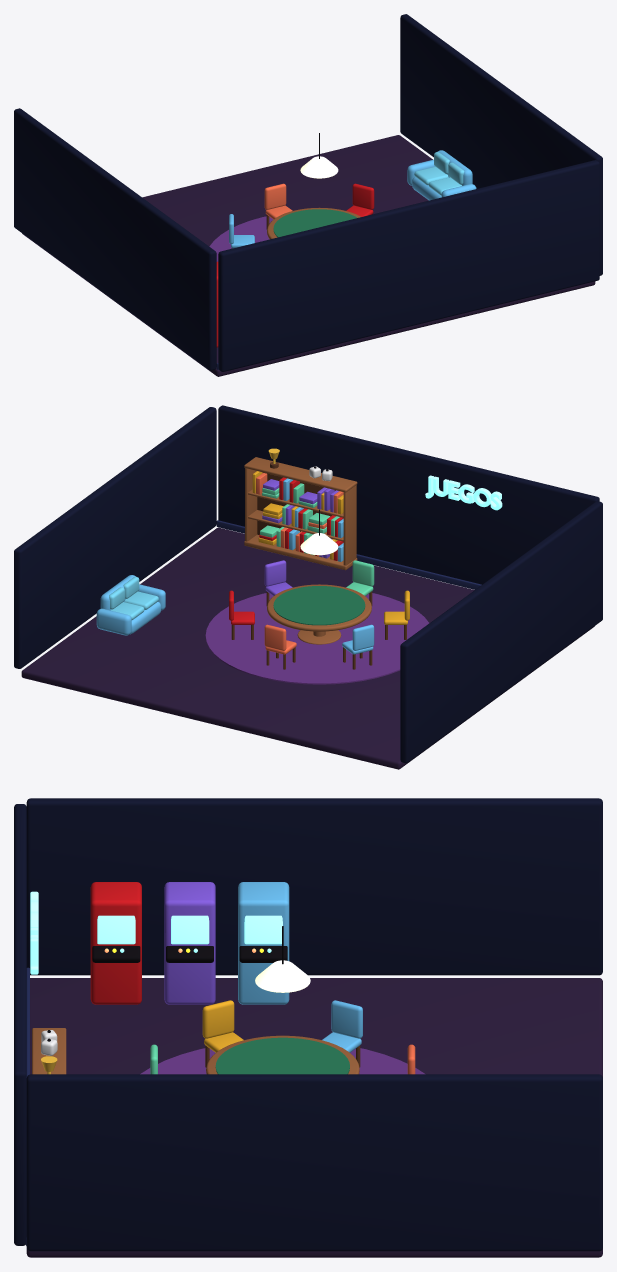
File: room_games.glb
3 renders of one model, top to bottom at view 1: azimuth 30°, elevation 25°; view 2: azimuth 150°, elevation 25°; view 3: azimuth 270°, elevation 25°, orthographic. The views are drawn at different scales.
Visible parts, largest first — view 1: Room, GamerSofa, RoundTable, TableRug, TableChair_1, TableChair_6, TableLampShade; view 2: Room, TableRug, GameShelf, GameBoxes, RoundTable, GamerSofa, GamesNeon, TableChair_2, TableChair_1, TableChair_5, TableChair_4, TableLampShade (+2 smaller); view 3: Room, Arcade_1, Arcade_0, Arcade_2, RoundTable, TableRug, TableChair_3, TableChair_2, TableLampShade, GameShelf, GamesNeon.
Boxes of the visible parts, x1,y1,x2,y2 form: Room: (14,14,602,376); GamerSofa: (407,150,476,200); RoundTable: (267,207,360,239); TableRug: (209,216,273,261); TableChair_1: (264,183,292,229); TableChair_6: (346,183,374,216); TableLampShade: (300,156,338,178); Room: (14,405,602,769); TableRug: (205,593,429,684); GameShelf: (244,457,357,570); GameBoxes: (252,471,343,561); RoundTable: (267,584,371,644); GamerSofa: (96,575,165,635); GamesNeon: (425,475,502,510); TableChair_2: (342,624,374,669); TableChair_1: (264,624,296,669); TableChair_5: (264,560,292,605); TableChair_4: (346,560,374,605); TableLampShade: (300,533,338,555); Room: (14,798,602,1257); Arcade_1: (164,882,215,1004); Arcade_0: (90,882,141,1004); Arcade_2: (238,882,289,1004); RoundTable: (206,1035,359,1074); TableRug: (140,1048,425,1074); TableChair_3: (202,1000,243,1067); TableChair_2: (322,1000,362,1067); TableLampShade: (255,960,310,992); GameShelf: (32,1028,66,1074); GamesNeon: (30,891,38,974).
Bounding box in the file's own units: 10.4 × 3.4 × 9.2.
